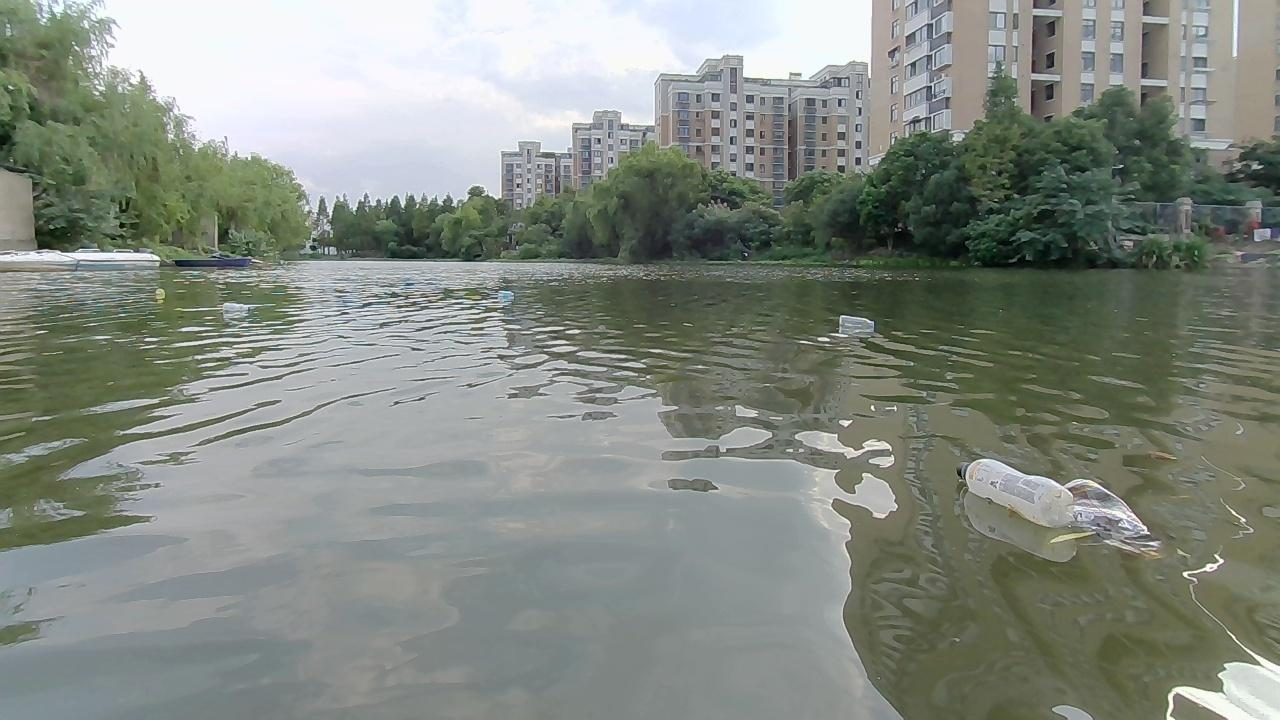bottle: (956, 454, 1078, 526), (1060, 479, 1157, 552), (835, 310, 874, 335), (216, 299, 256, 319), (496, 285, 516, 301), (151, 284, 164, 300)
